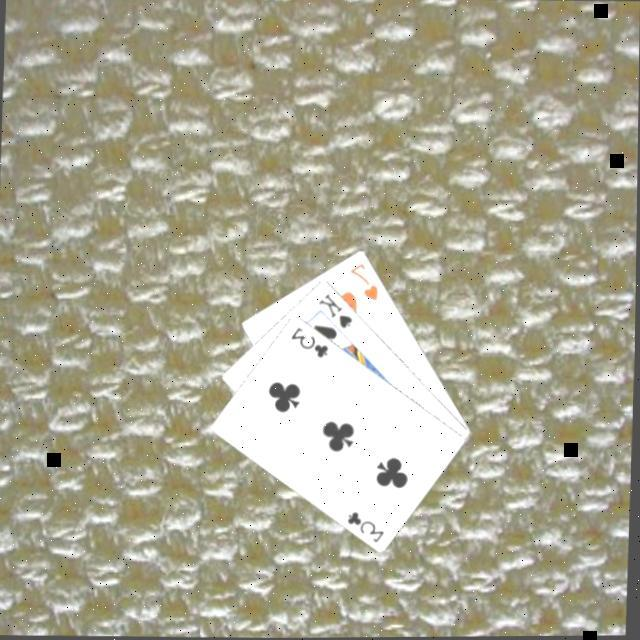3C: (286, 325, 331, 364), (343, 509, 388, 548)
7H: (345, 261, 383, 306)
KS: (314, 291, 356, 333)
